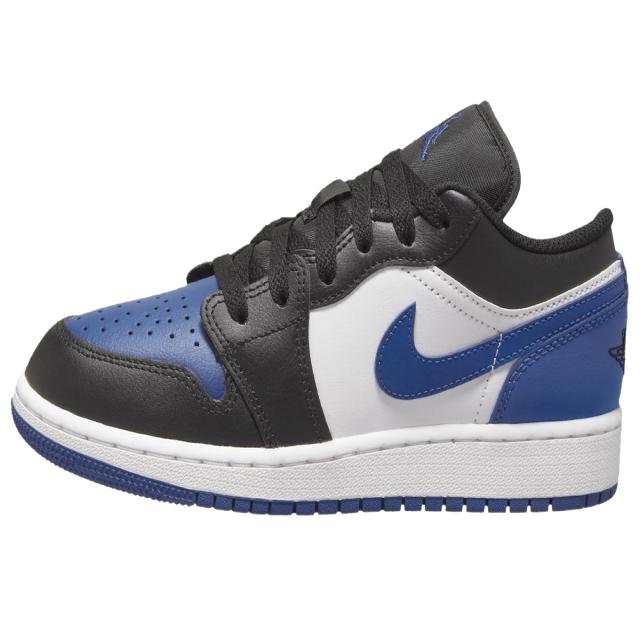nike_original_jordan: (5, 100, 632, 538)
